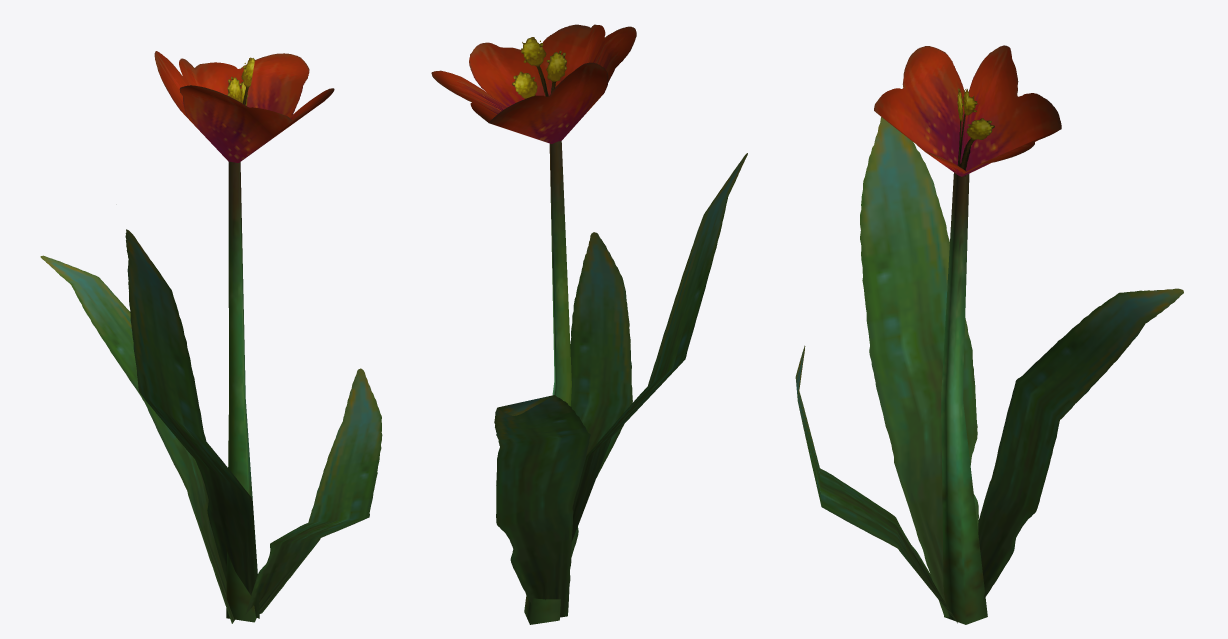
The model's file is sholazar_flowera.obj.
The picture shows the model from 3 angles, left to right: view 1: azimuth 30°, elevation 25°; view 2: azimuth 150°, elevation 25°; view 3: azimuth 270°, elevation 25°; orthographic projection. The views are drawn at different scales.
Visible parts, largest first — view 1: sholazar_flowera; view 2: sholazar_flowera; view 3: sholazar_flowera.
Part boxes in pixels (x1,y1,x2,y2): sholazar_flowera: (40,51,382,623); sholazar_flowera: (431,24,747,624); sholazar_flowera: (795,45,1183,624).
Size of the model in its own units: 0.8593 by 1.9 by 1.26.
Materials: 1 (1 with a texture image).
